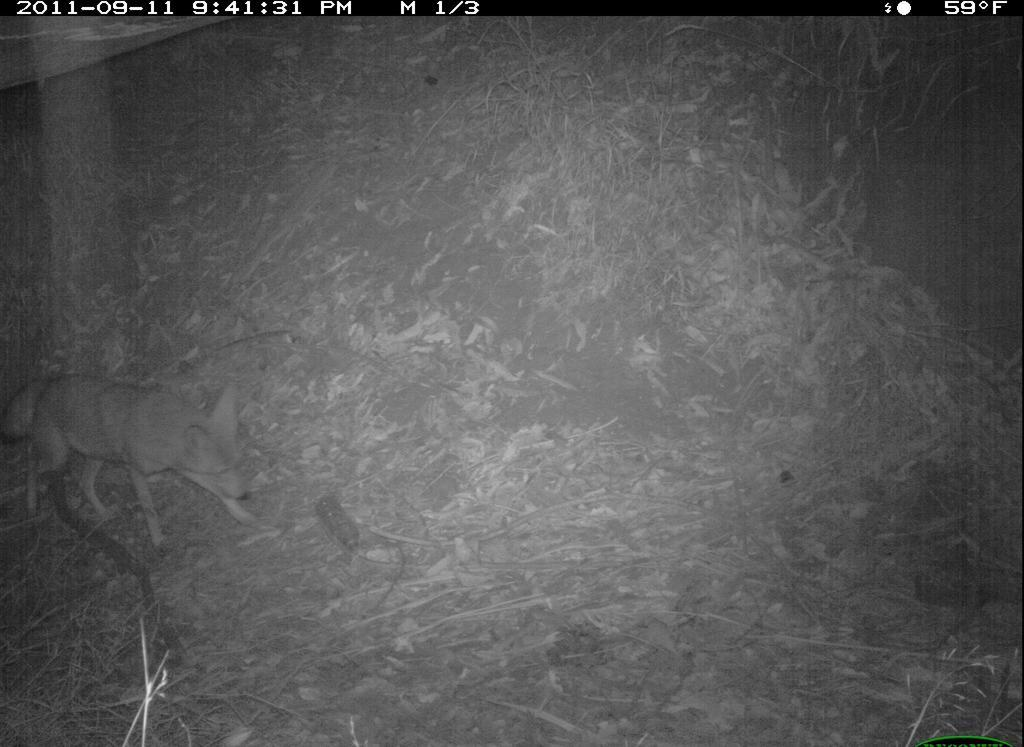coyote: (7, 347, 276, 545)
